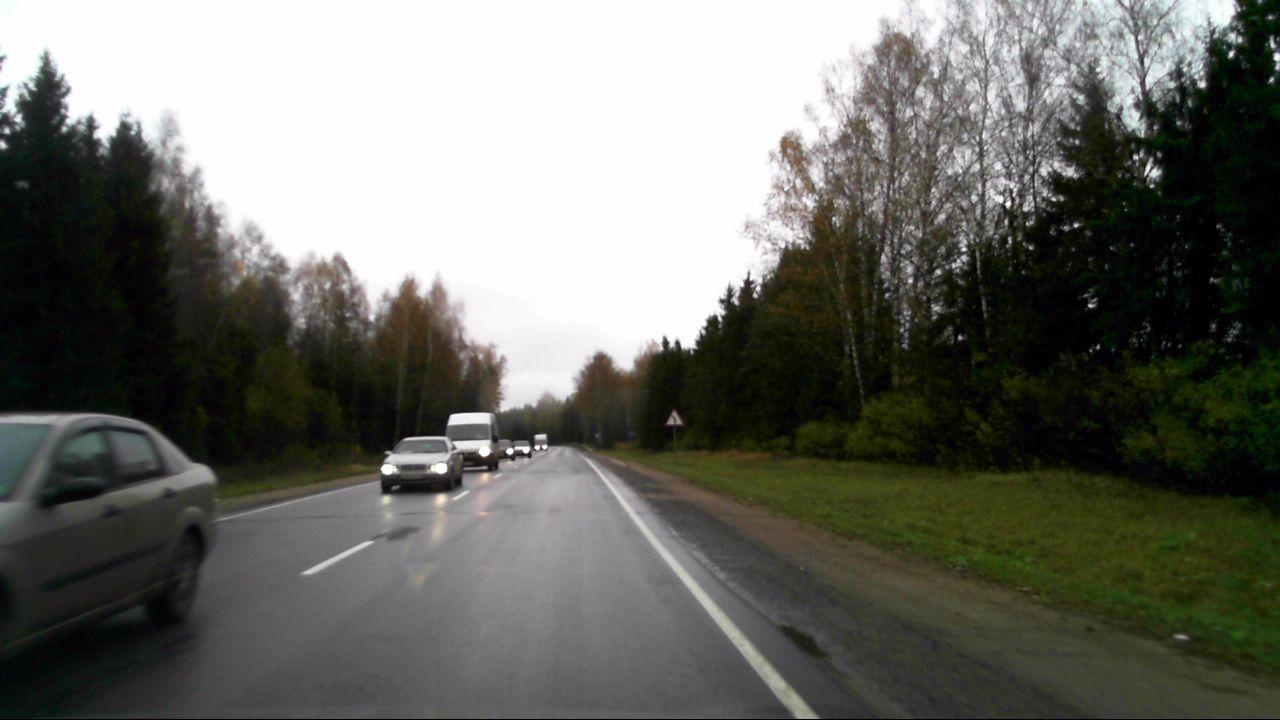road_sign: (664, 406, 685, 426)
